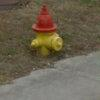Hydrant: (27, 2, 67, 58)
